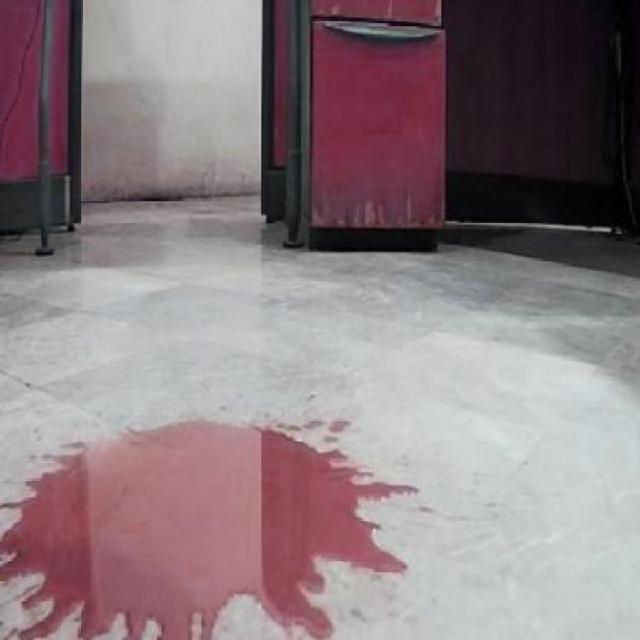spillage: (0, 422, 415, 640)
